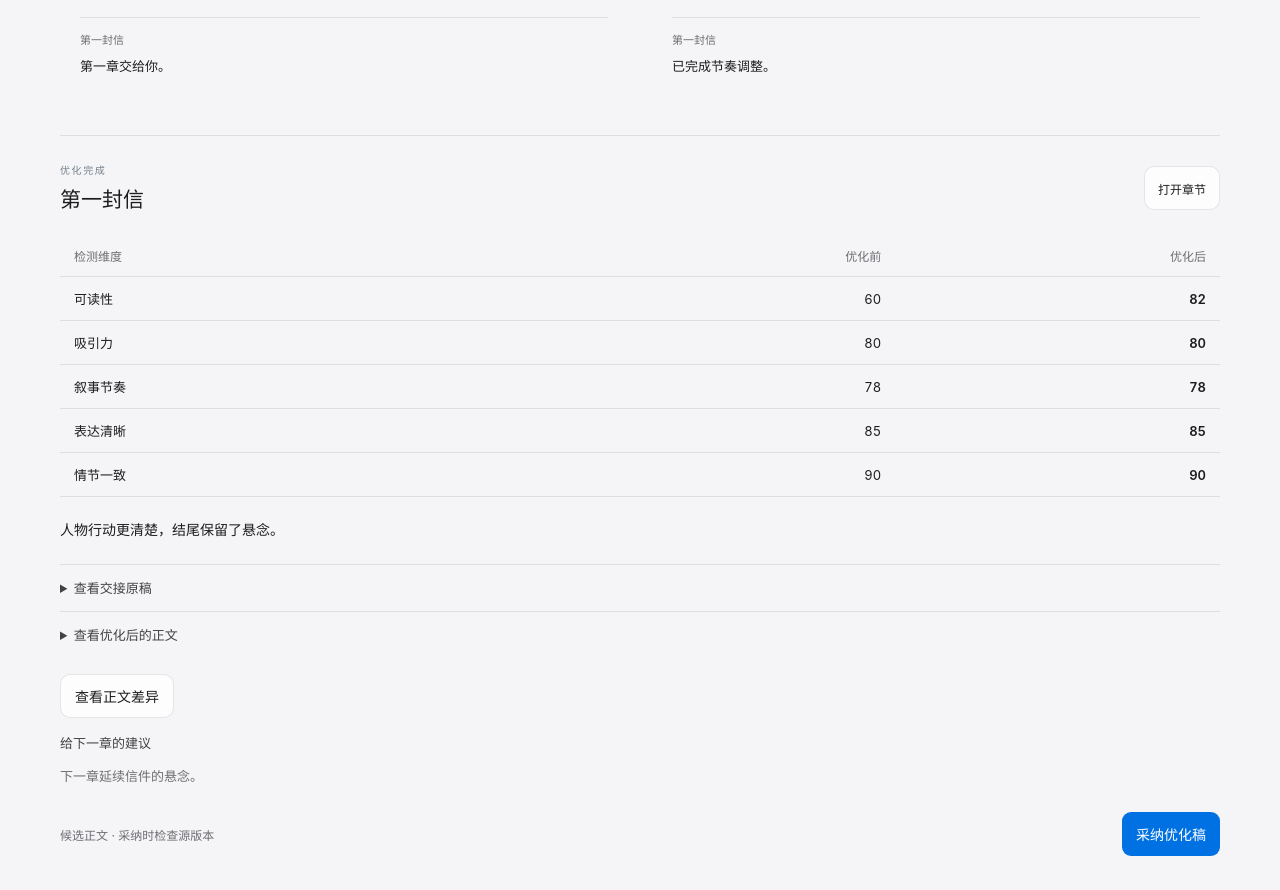
Test: shows two role conversations, before and after scores, and escaped candidate previews without generation
(page scrolled)
Expected: the text "第一章交给你。" is shown, [80,58,171,74]
Expected: the text "已完成节奏调整。" is shown, [672,58,776,74]
Click the heading "查看优化后的正文": (126, 635) [74,627,178,643]
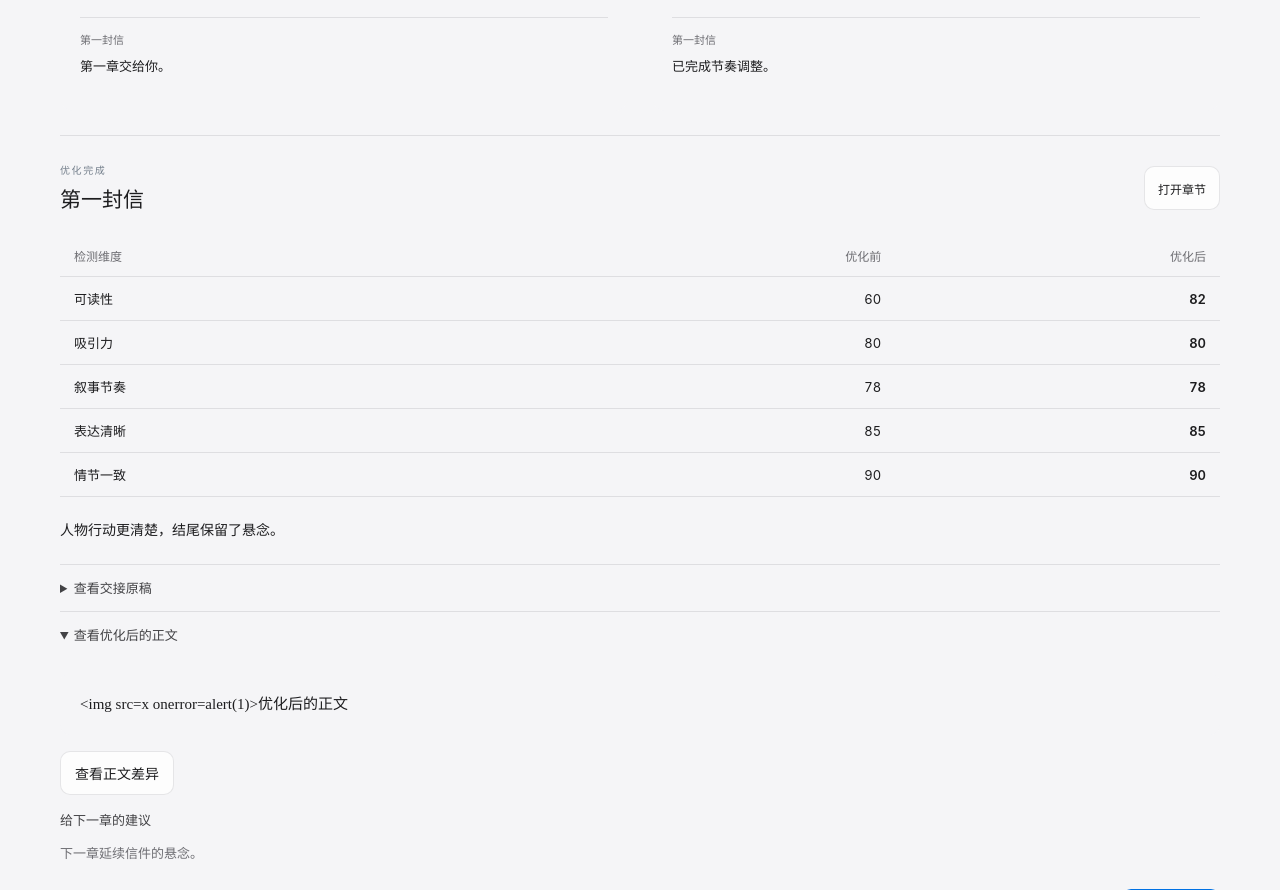
Expected: the text "<img src=x onerror=alert(1)>优化后的正文" is shown, [60,673,1220,735]
